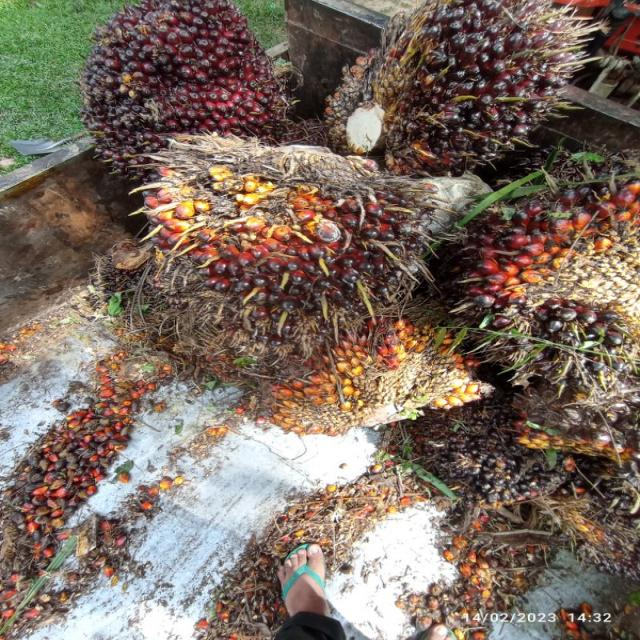fraksi 00: (135, 141, 412, 397), (333, 0, 572, 172)
fraksi 1: (80, 0, 289, 172)
